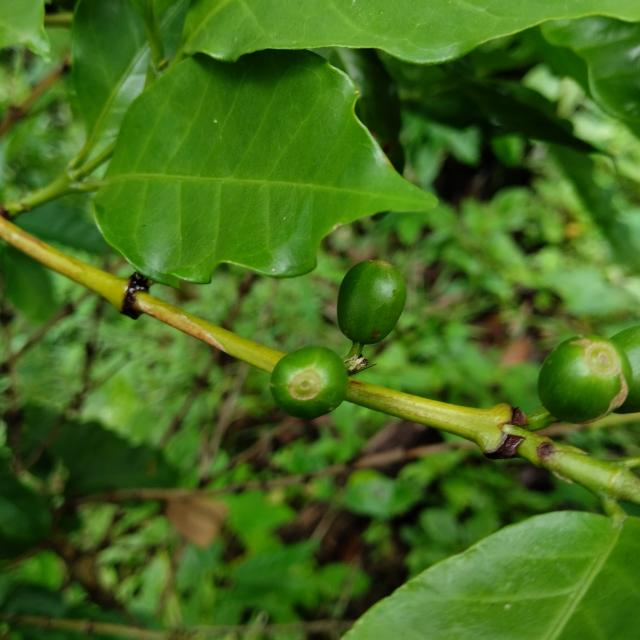green: (539, 325, 640, 424), (337, 260, 407, 360), (270, 347, 348, 419)
